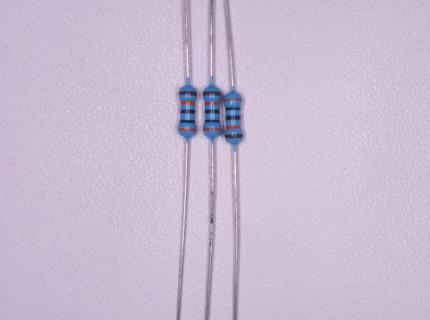Black band: (226, 115, 240, 120), (181, 109, 195, 114), (205, 110, 219, 114), (226, 107, 240, 110), (180, 120, 194, 123), (206, 119, 219, 122)
Brown band: (225, 134, 243, 139), (204, 91, 221, 96), (179, 91, 196, 95)
Orange band: (181, 100, 195, 105), (226, 125, 241, 129), (224, 98, 242, 101), (205, 101, 218, 105), (203, 128, 220, 131), (179, 128, 196, 131)
